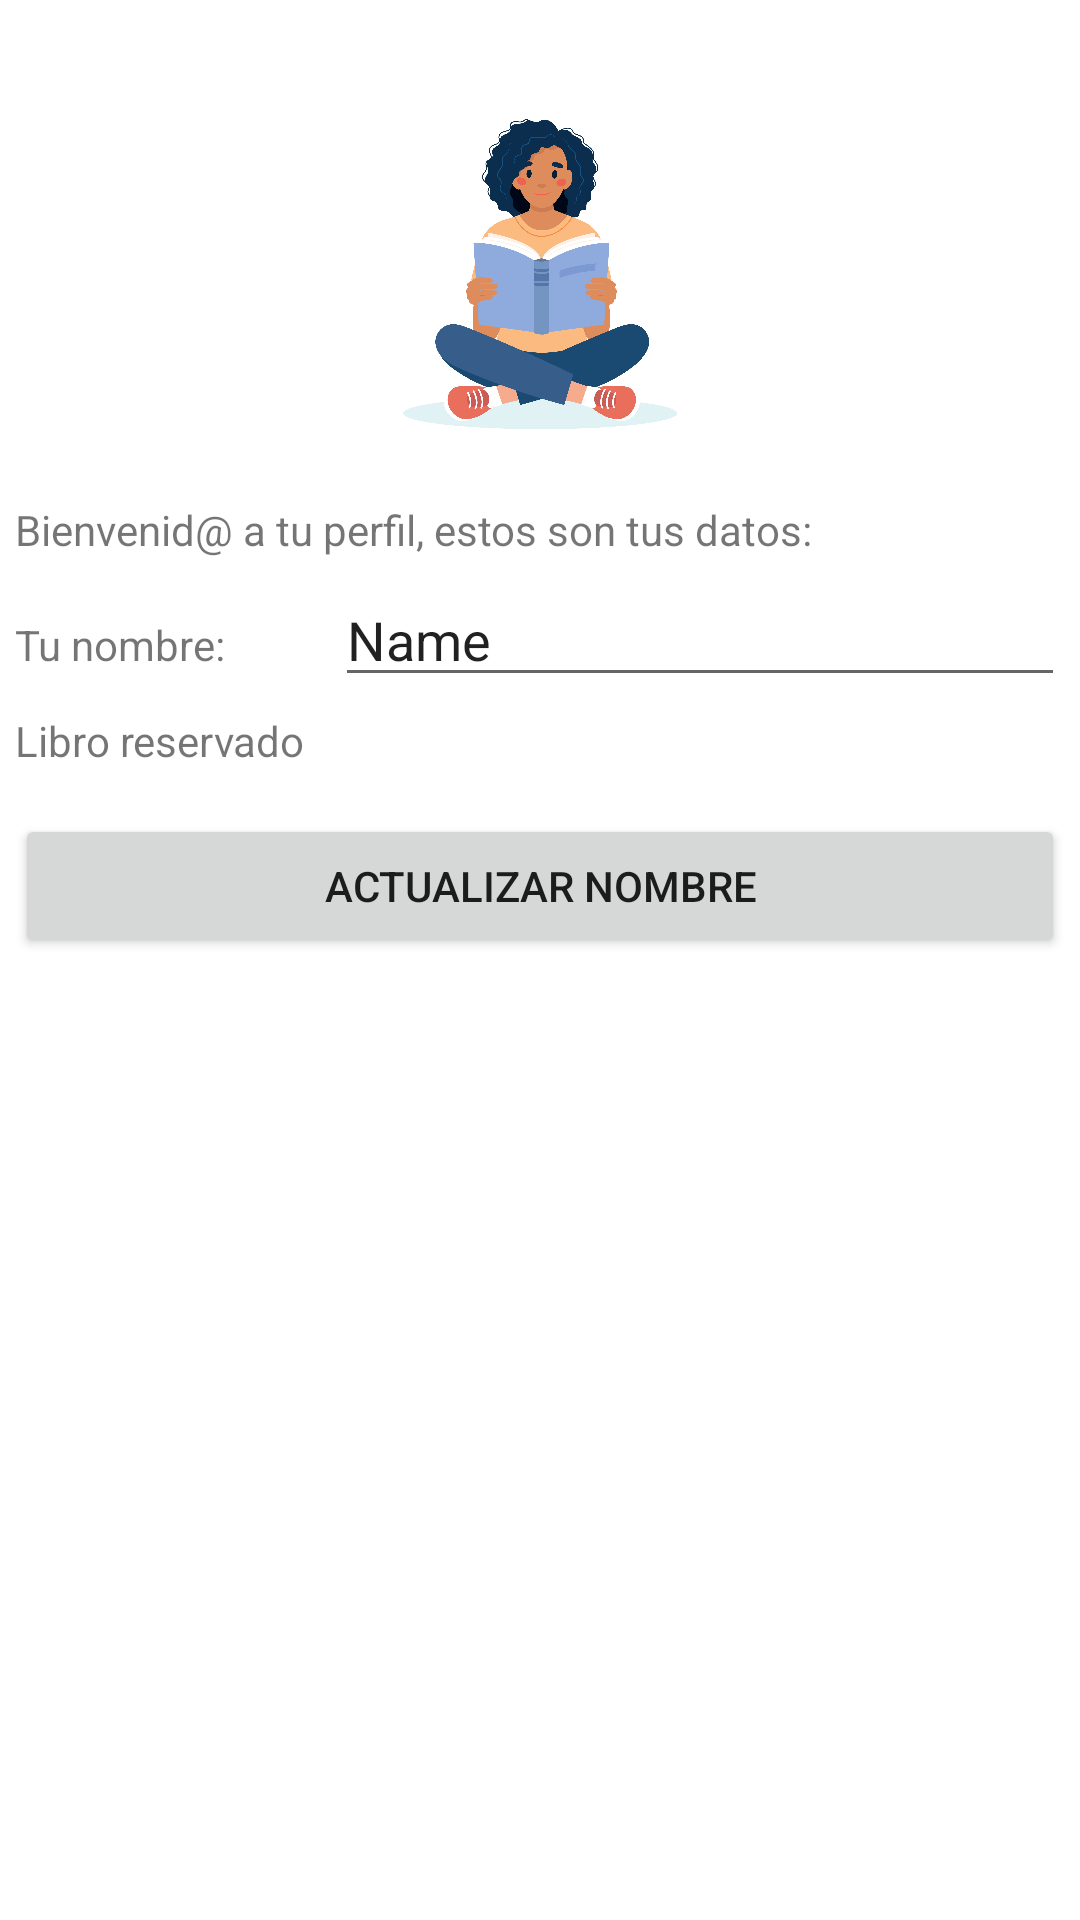

Icon click points for this 1080×1920 phone screenshot, format point (x, y):
persona: point (540, 274)
